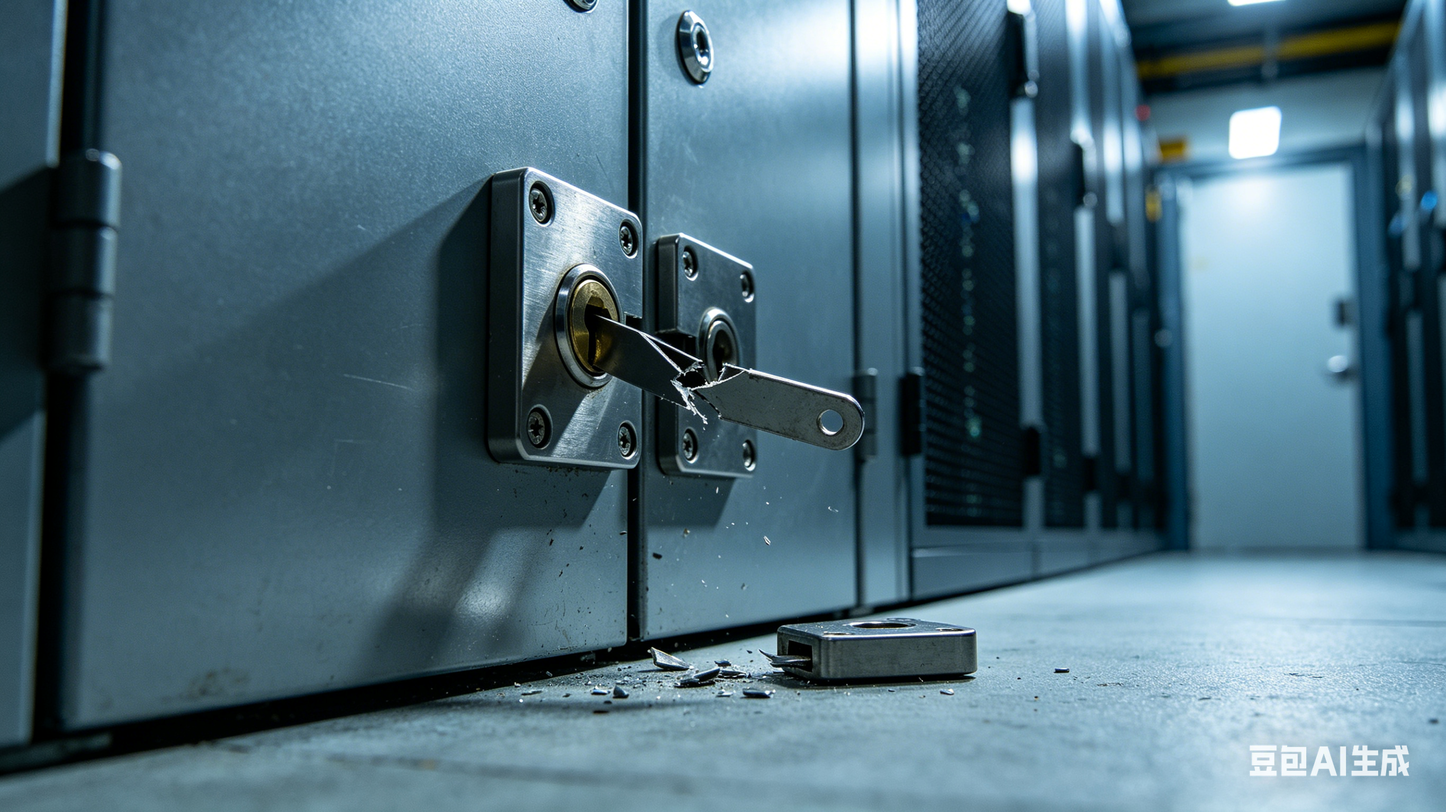BadLock: (571, 295, 761, 428)
